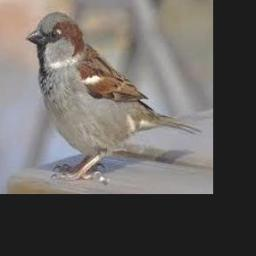Sparrow: (25, 11, 201, 180)
